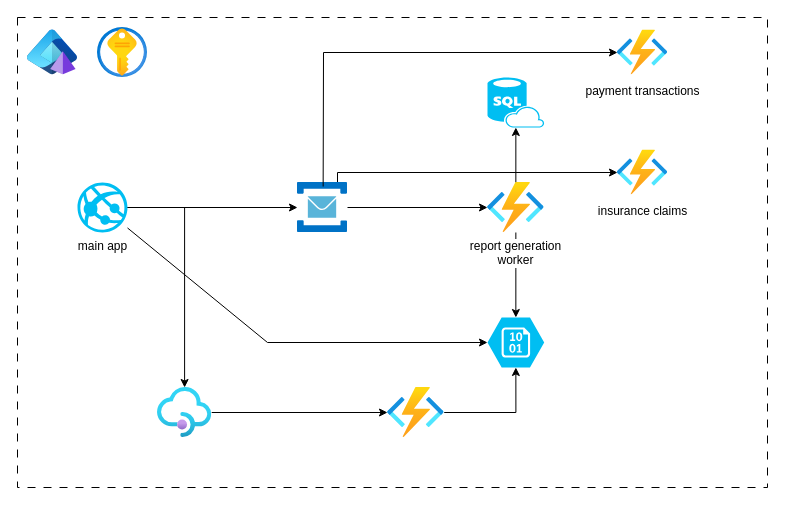
This 785x505 diagram has some shape labels left out. Each missing label, with the centre of its shape:
report generation queue: (322,207)
report generation status: (415,412)
